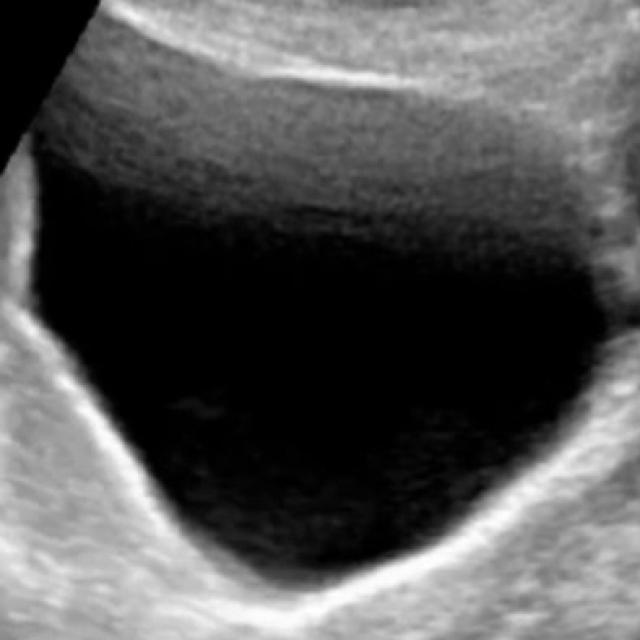bladder: (18, 0, 624, 615)
